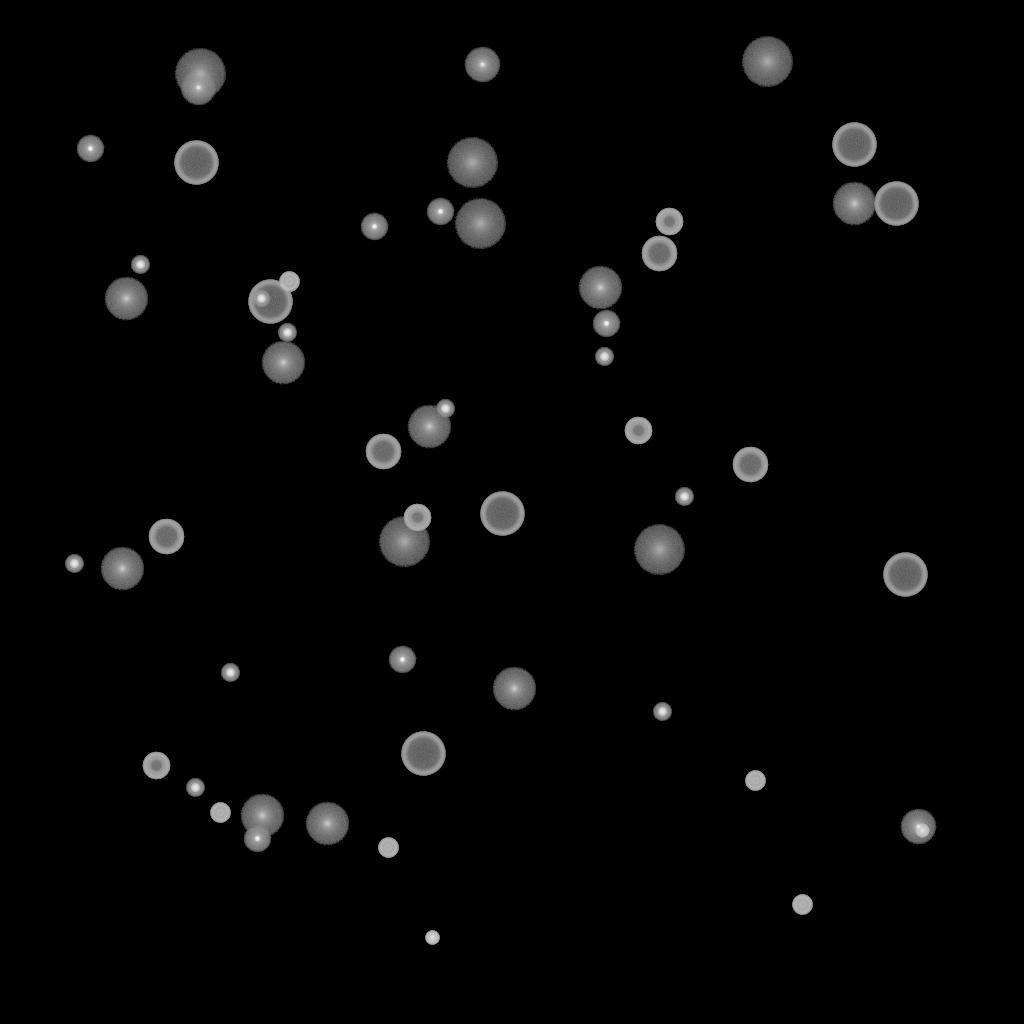depth:-10: (76, 135, 104, 163), (388, 646, 416, 674), (243, 825, 271, 853), (592, 310, 620, 338), (360, 213, 388, 241), (426, 198, 454, 226)
depth:-20: (675, 488, 693, 506), (653, 703, 671, 721), (252, 290, 270, 308), (186, 779, 204, 797), (65, 555, 83, 573), (436, 400, 454, 418), (278, 324, 296, 342), (221, 664, 239, 682), (131, 256, 149, 274), (595, 348, 613, 366)
depth:-30: (425, 931, 439, 945), (915, 824, 929, 838)
depth:-40: (792, 895, 812, 915), (279, 272, 299, 292), (210, 803, 230, 823), (378, 838, 398, 858), (745, 771, 765, 791)
depth:-50: (142, 752, 170, 780), (624, 417, 652, 445), (655, 208, 683, 236), (403, 504, 431, 532)
depth:-60: (148, 519, 184, 555), (641, 236, 677, 272), (365, 434, 401, 470), (732, 447, 768, 483)
depth:-70: (401, 732, 445, 776), (874, 182, 918, 226), (883, 553, 927, 597), (174, 141, 218, 185), (248, 280, 292, 324), (480, 492, 524, 536), (832, 123, 876, 167)
depth:0: (900, 809, 936, 845), (464, 47, 500, 83), (180, 70, 216, 106)
depth:10: (305, 802, 349, 846), (832, 182, 876, 226), (578, 266, 622, 310), (100, 547, 144, 591), (261, 341, 305, 385), (104, 277, 148, 321), (407, 405, 451, 449), (492, 667, 536, 711), (240, 794, 284, 838)
depth:20: (378, 517, 430, 567), (454, 199, 506, 249), (741, 37, 793, 87), (633, 525, 685, 575), (446, 138, 498, 188), (174, 49, 226, 99)
